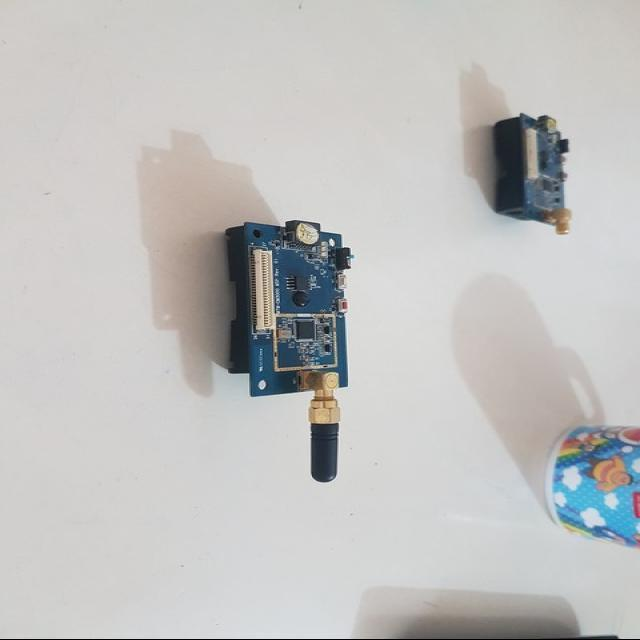TelosB: (226, 221, 353, 483), (498, 115, 572, 236)
